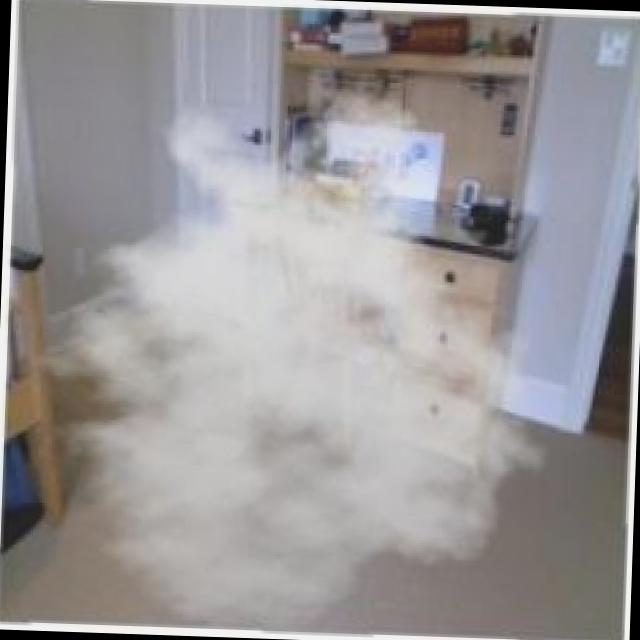smoke: (108, 191, 428, 522)
